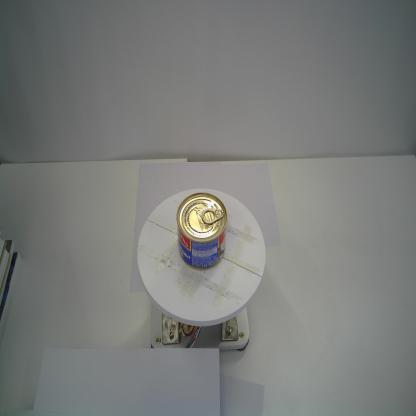Canned Food: (176, 190, 228, 272)
